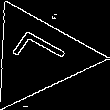L_SE: (4, 30, 72, 82)
